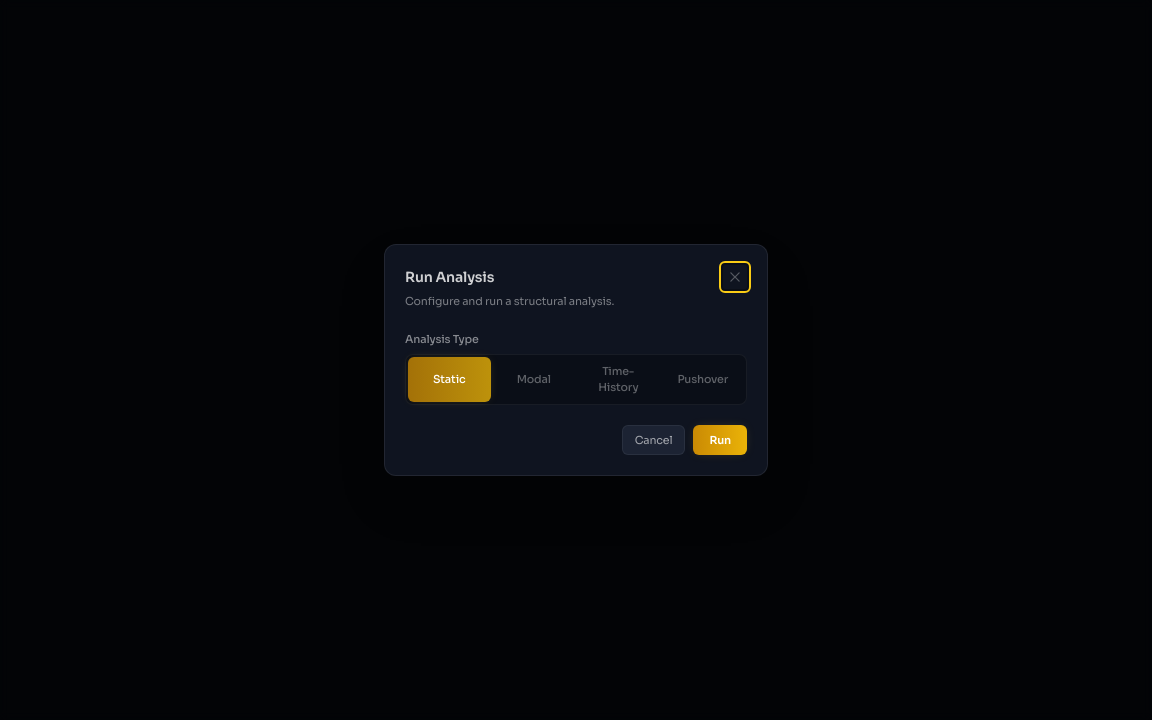
Scenario: AnalysisDialog — auto-select ground motion › auto-selects first GM when switching to time-history with GMs available
// Switch to time-history
Click the button "Time-History".
click(618, 379)  # box 577,356 -> 660,402
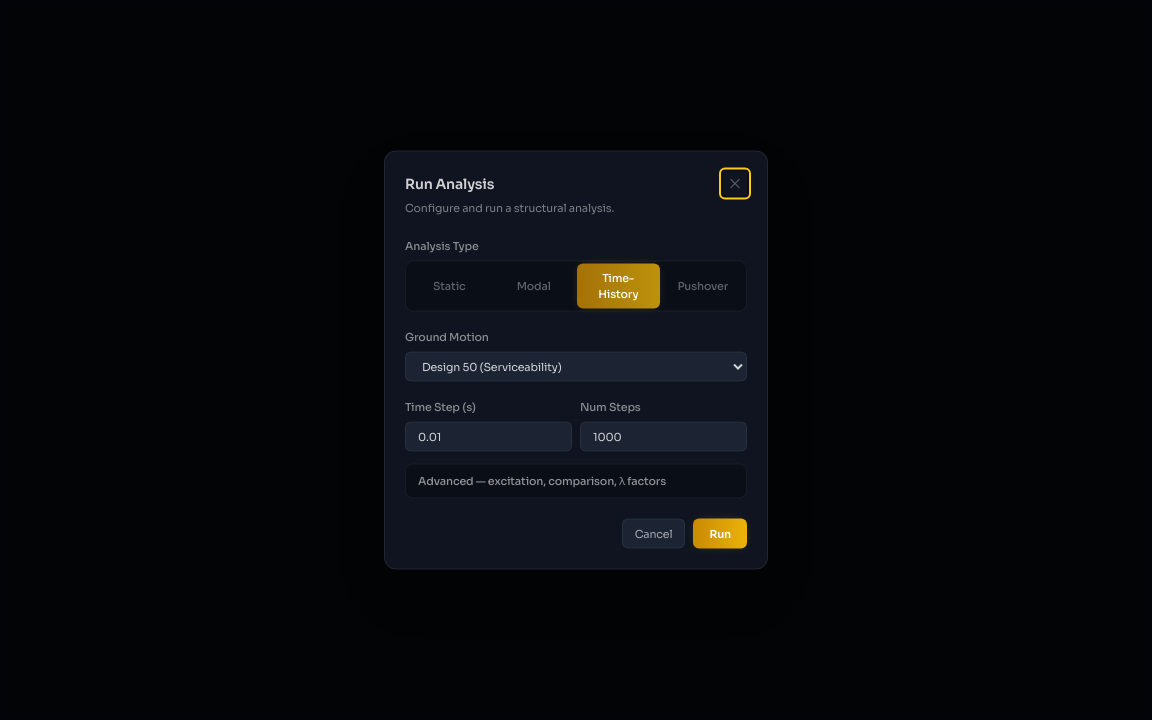
expect the dropdown labelled "Ground Motion" shows "Design 50 (Serviceability)": met, box 405,351 -> 747,381
